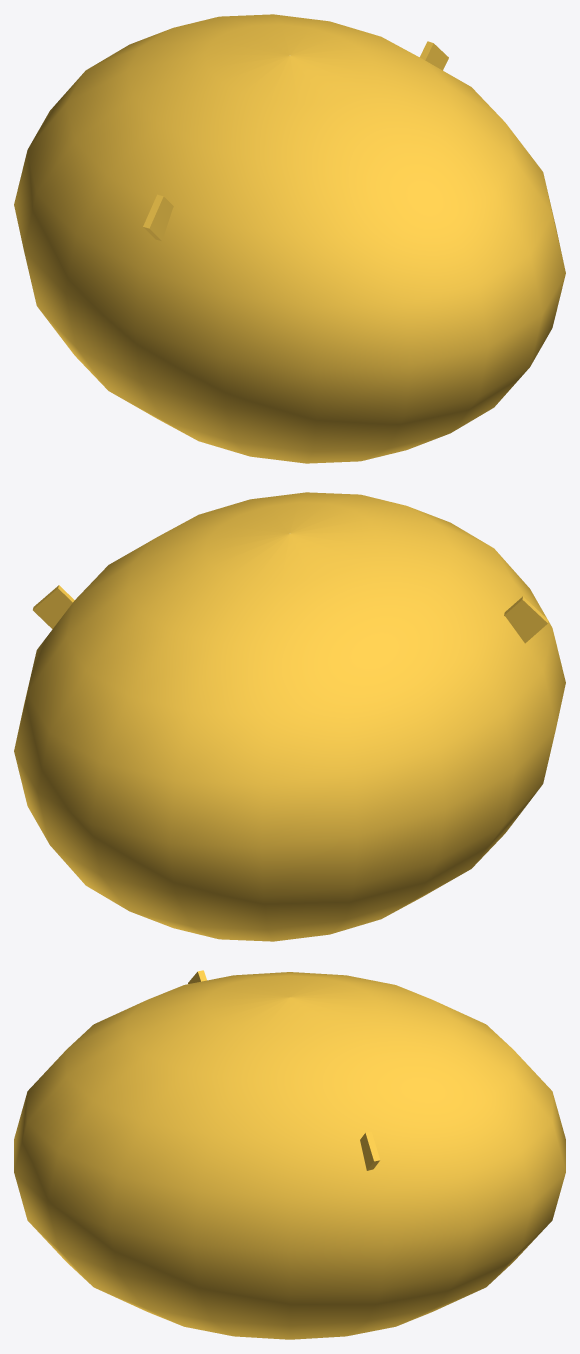
The model's file is fruit-watermelon-gold.gltf.
3 views of the same model, one above another, from view 1: azimuth 30°, elevation 25°; view 2: azimuth 150°, elevation 25°; view 3: azimuth 270°, elevation 25° (orthographic). The views are drawn at different scales.
Bounding box in the file's own units: 1.1 × 0.858 × 1.35.
